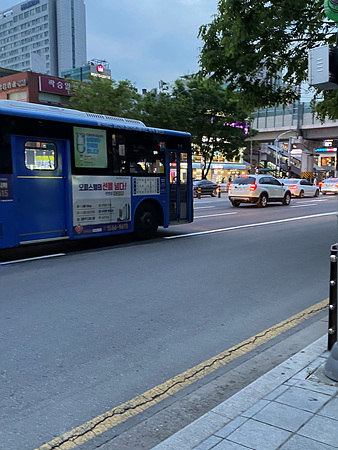entrance: (164, 143, 193, 224)
